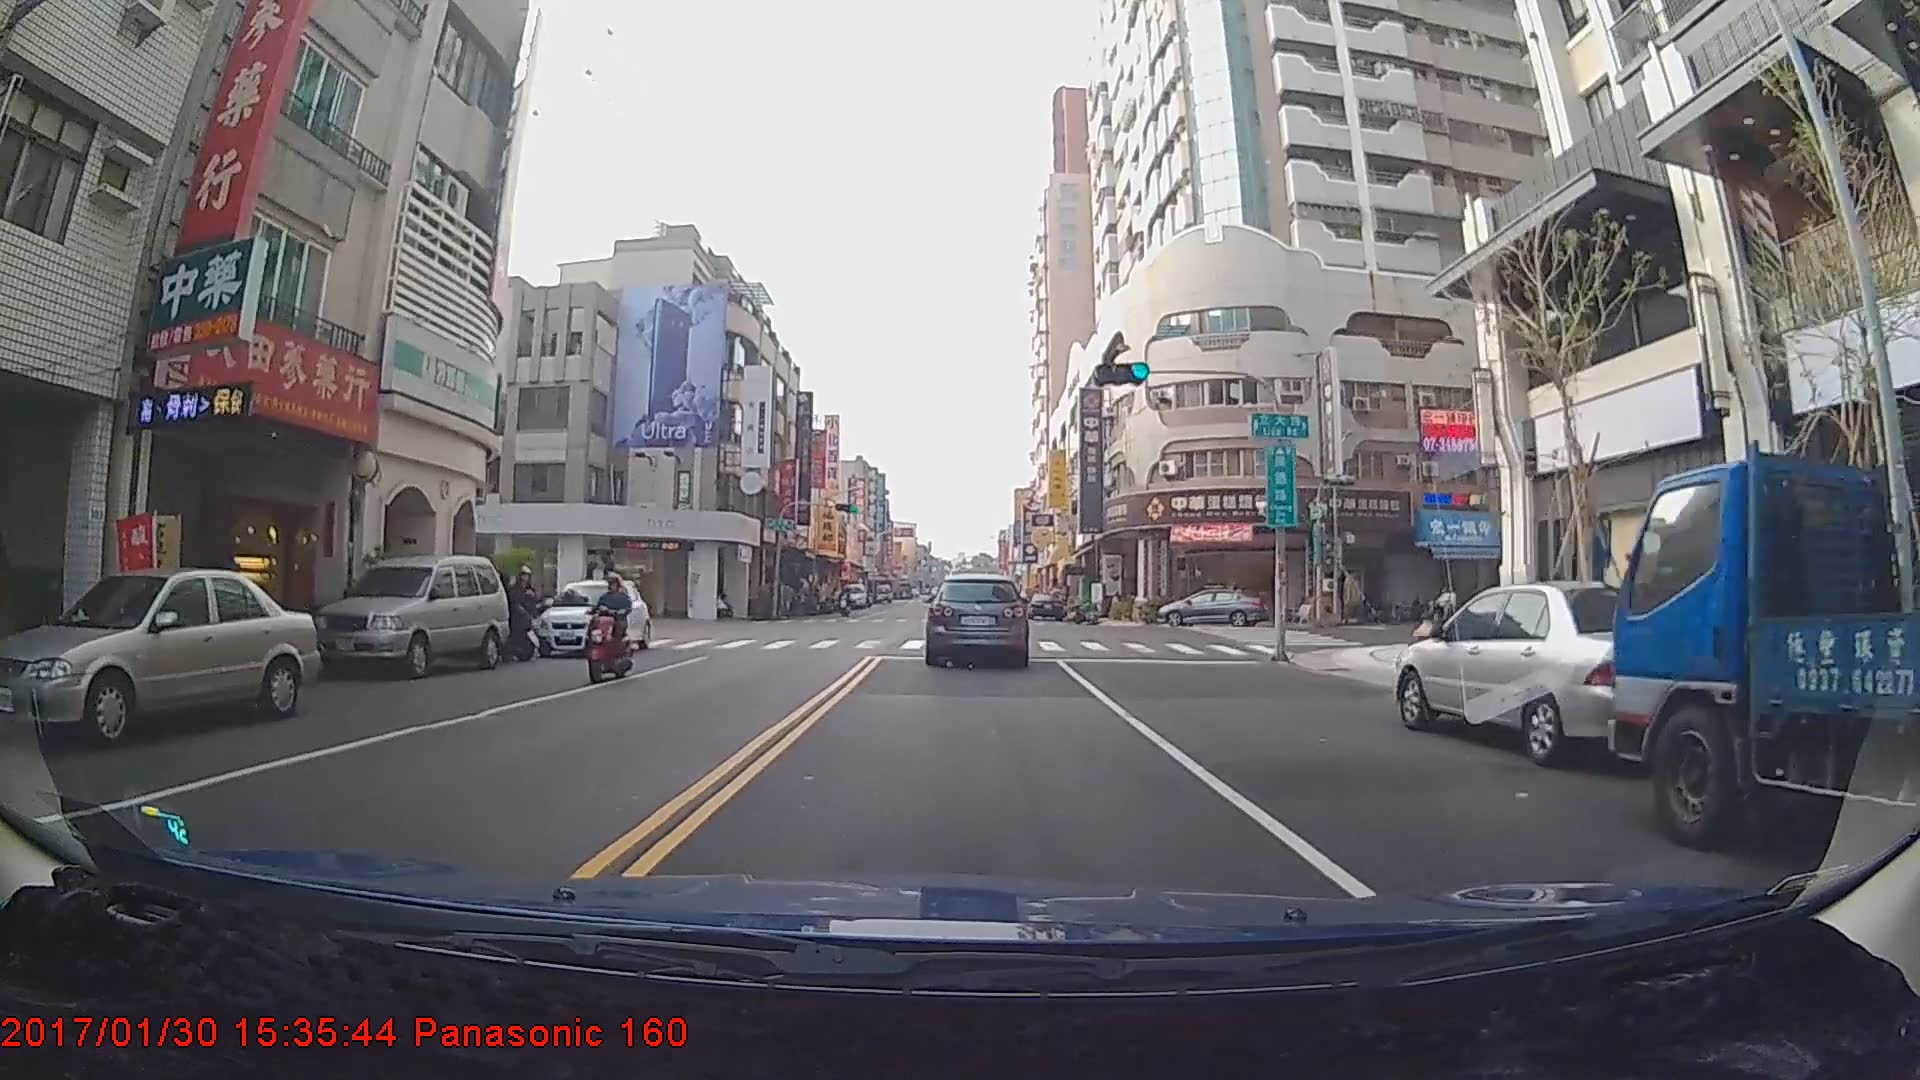rider: (580, 573, 633, 685), (832, 586, 855, 621)
vehicle: (1612, 453, 1920, 911), (1395, 579, 1722, 770), (0, 567, 320, 749), (309, 552, 510, 679), (925, 573, 1028, 668), (535, 578, 643, 658), (1154, 586, 1267, 629), (1025, 589, 1063, 619), (840, 581, 865, 609)
